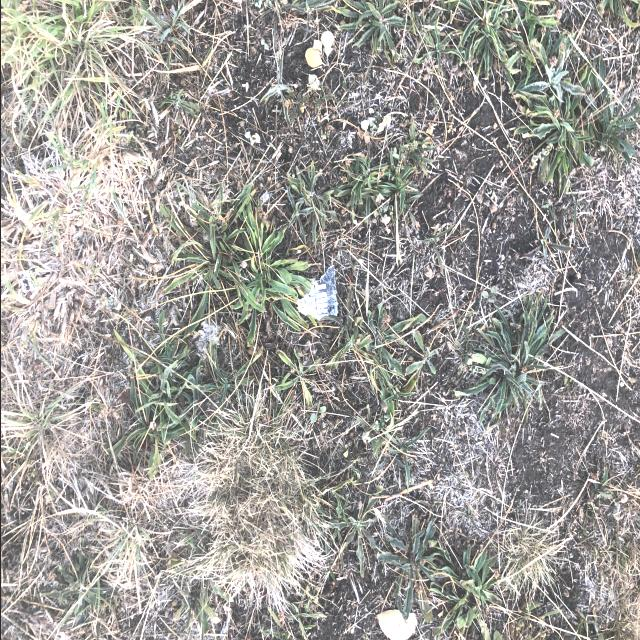Other carton: (295, 265, 337, 321), (18, 266, 39, 294)
